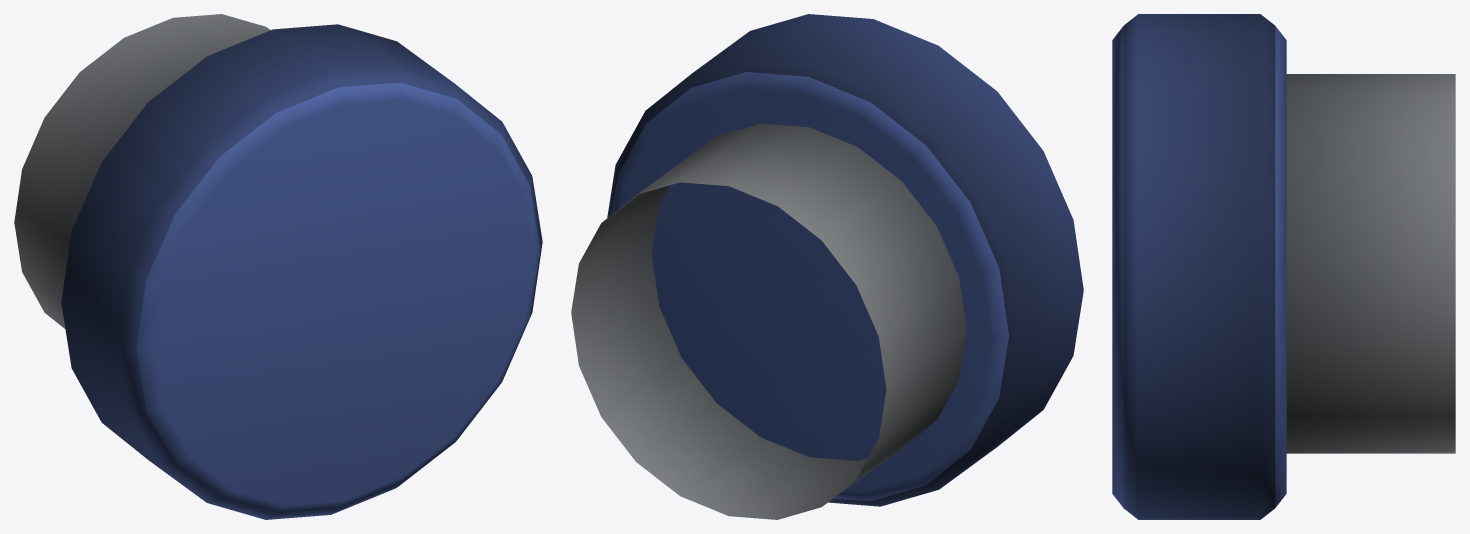
The model's file is bottone_puzzle_allarme_blu.fbx.
3 views of the same model, side by side, from view 1: azimuth 30°, elevation 25°; view 2: azimuth 150°, elevation 25°; view 3: azimuth 270°, elevation 25° (orthographic). The views are drawn at different scales.
Visible parts, largest first — view 1: bottone_puzzle_allarme_blu; view 2: bottone_puzzle_allarme_blu; view 3: bottone_puzzle_allarme_blu.
Boxes of the visible parts, x1=… form: bottone_puzzle_allarme_blu: x1=14, y1=14, x2=542, y2=519; bottone_puzzle_allarme_blu: x1=571, y1=14, x2=1083, y2=519; bottone_puzzle_allarme_blu: x1=1112, y1=14, x2=1455, y2=519.
Size of the model in its own units: 4 by 4 by 2.69.
